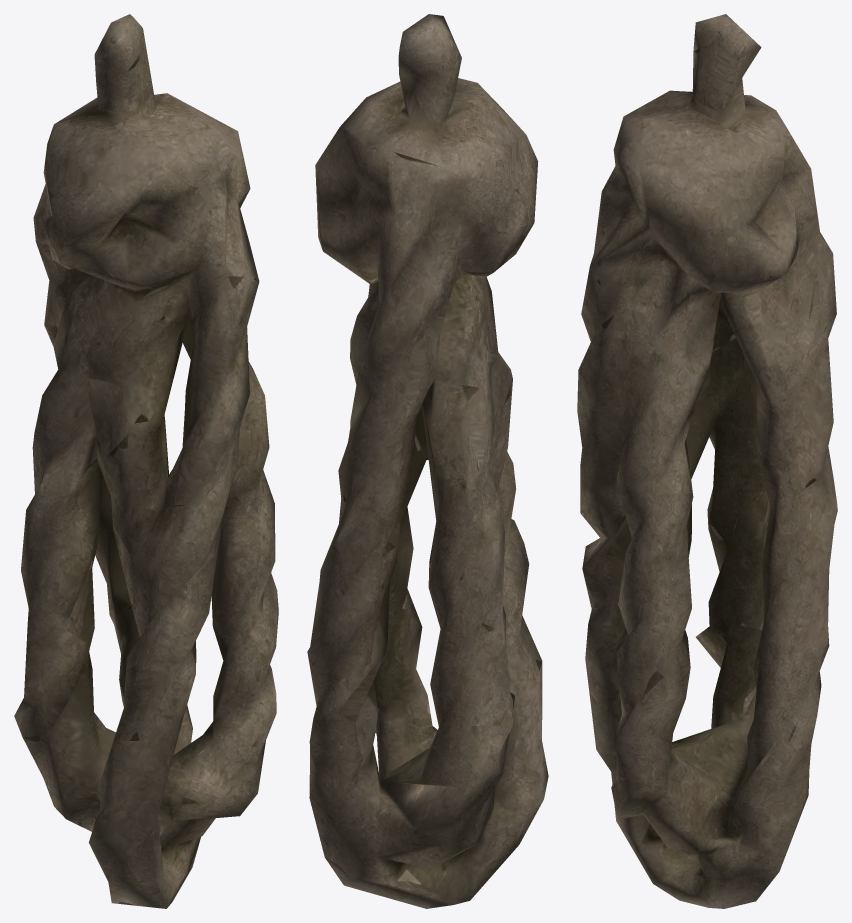
File: rope.glb
3 views of the same model, side by side, from view 1: azimuth 30°, elevation 25°; view 2: azimuth 150°, elevation 25°; view 3: azimuth 270°, elevation 25° (orthographic). The views are drawn at different scales.
Bounding box in the file's own units: 0.4629 × 1.89 × 0.5097.
Materials: 1 (1 with a texture image).
